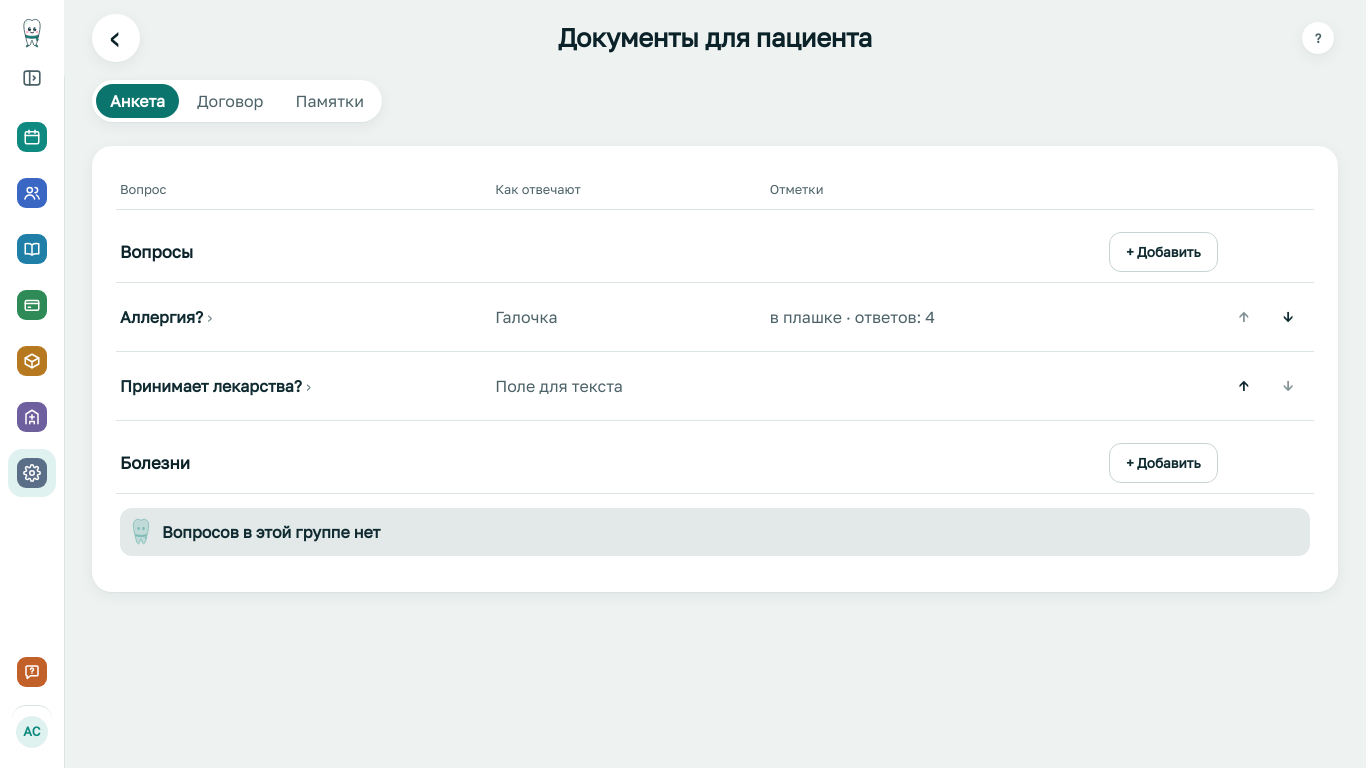
it: анкета: разделы, порядок, новый вопрос с плашкой
Check: the text "в плашке · ответов: 4" is shown, box 754,283 -> 1093,352
Check: the button named "Выше: Аллергия?" is disabled, box 1222,297 -> 1266,337
Step 1. Click the button named "Ниже: Аллергия?" → (1288, 317), box 1266,297 -> 1310,337
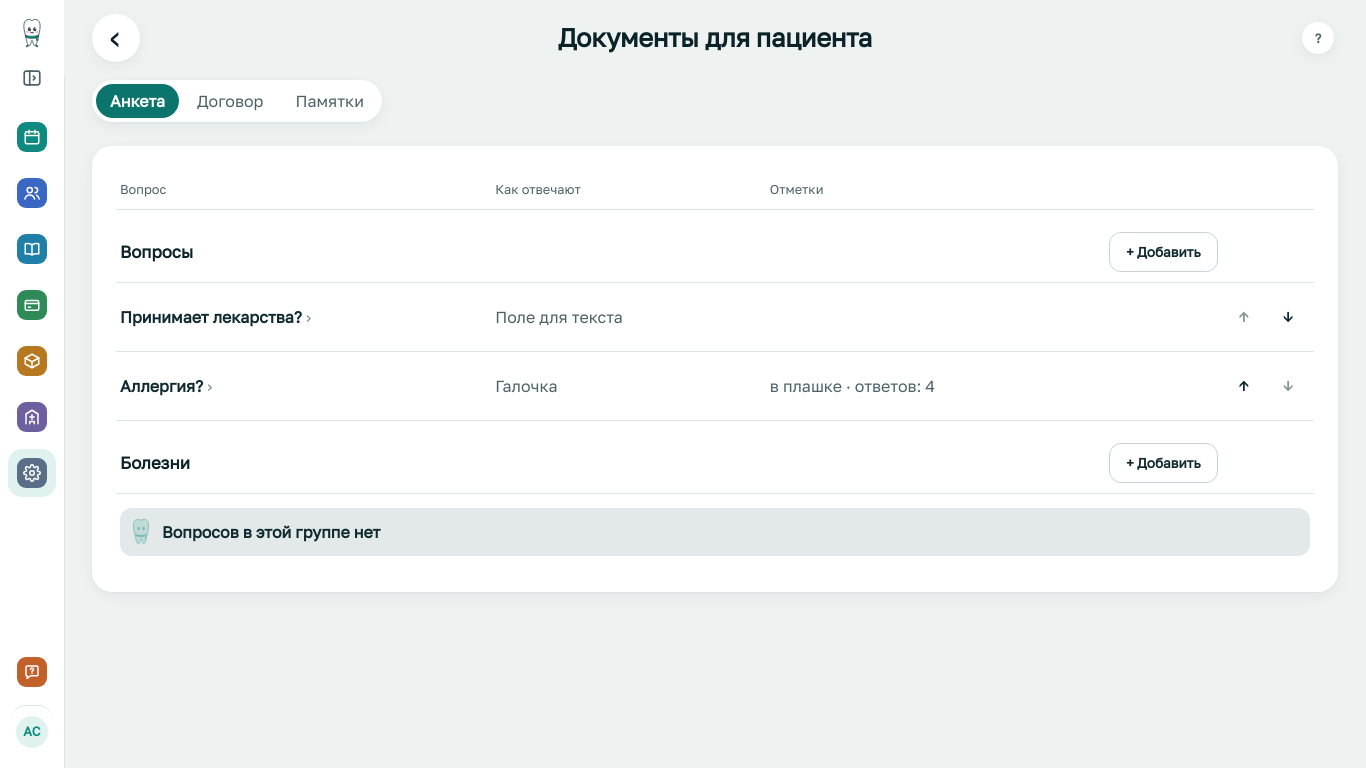
Check: the button named "Выше: Аллергия?" is enabled, box 1222,366 -> 1266,406
Step 2. Click the button "+ Добавить" in the row of "Болезни" → (1163, 463), box 1109,443 -> 1218,483
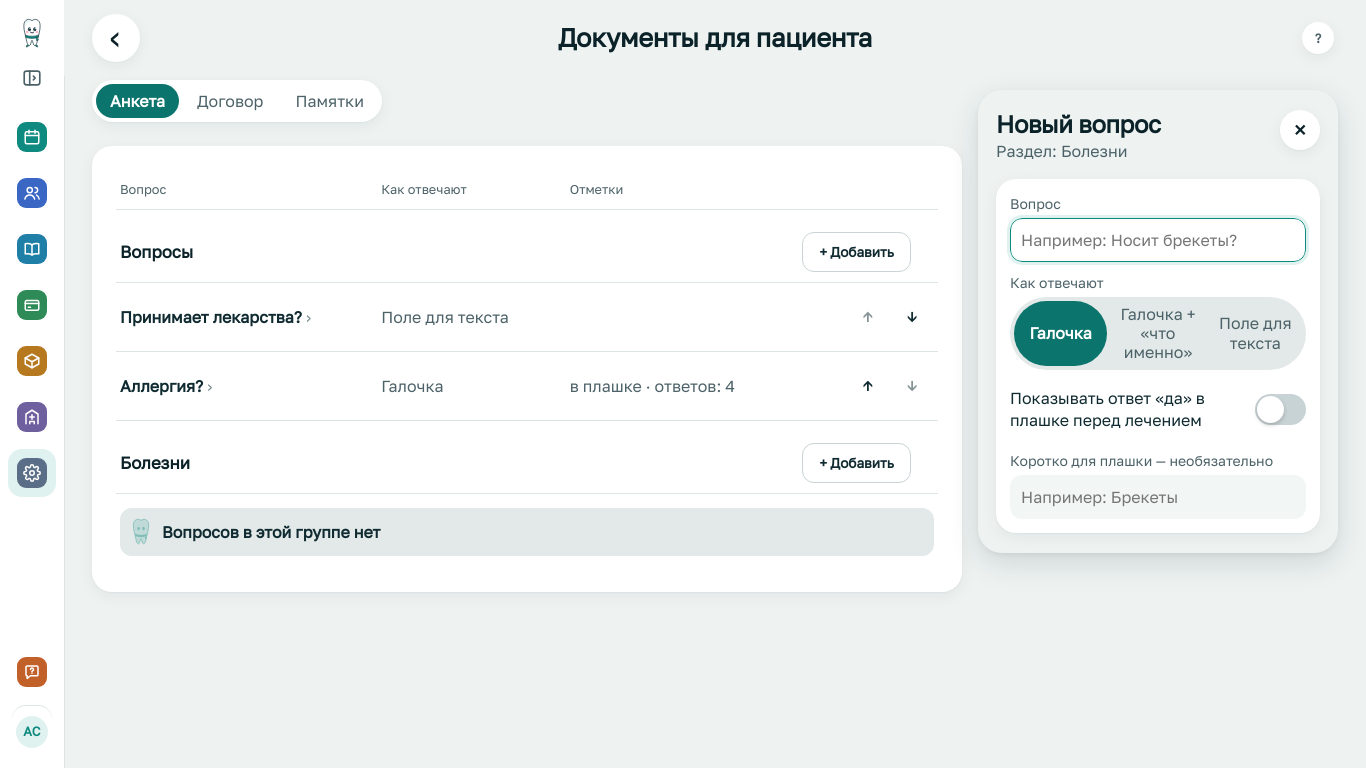
Check: the text "Раздел: Болезни" is shown, box 996,141 -> 1128,161
Step 3. Type "Диабет" into the field labelled "Вопрос" → (1158, 240), box 1010,218 -> 1306,262
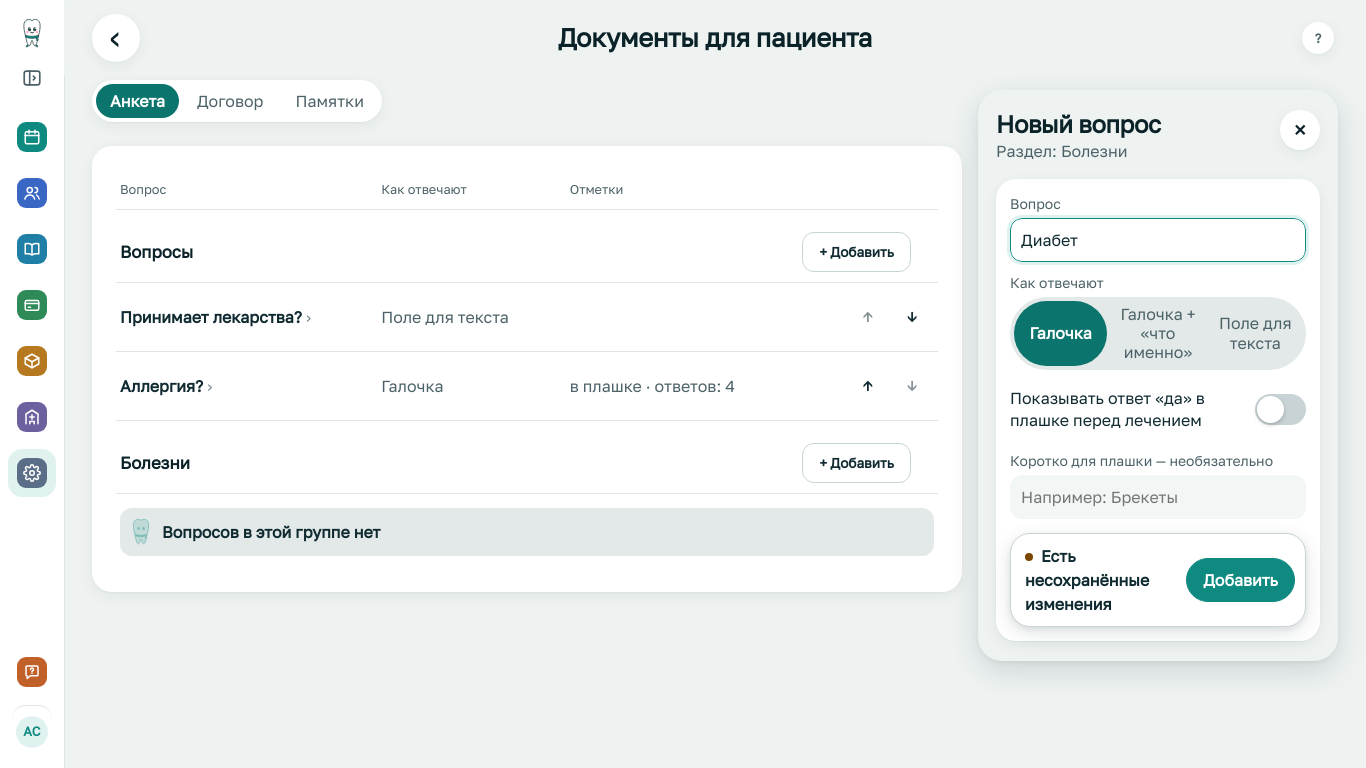
Step 4. Click the checkbox labelled "Показывать ответ «да» в плашке перед лечением" → (1280, 410), box 1255,394 -> 1306,426
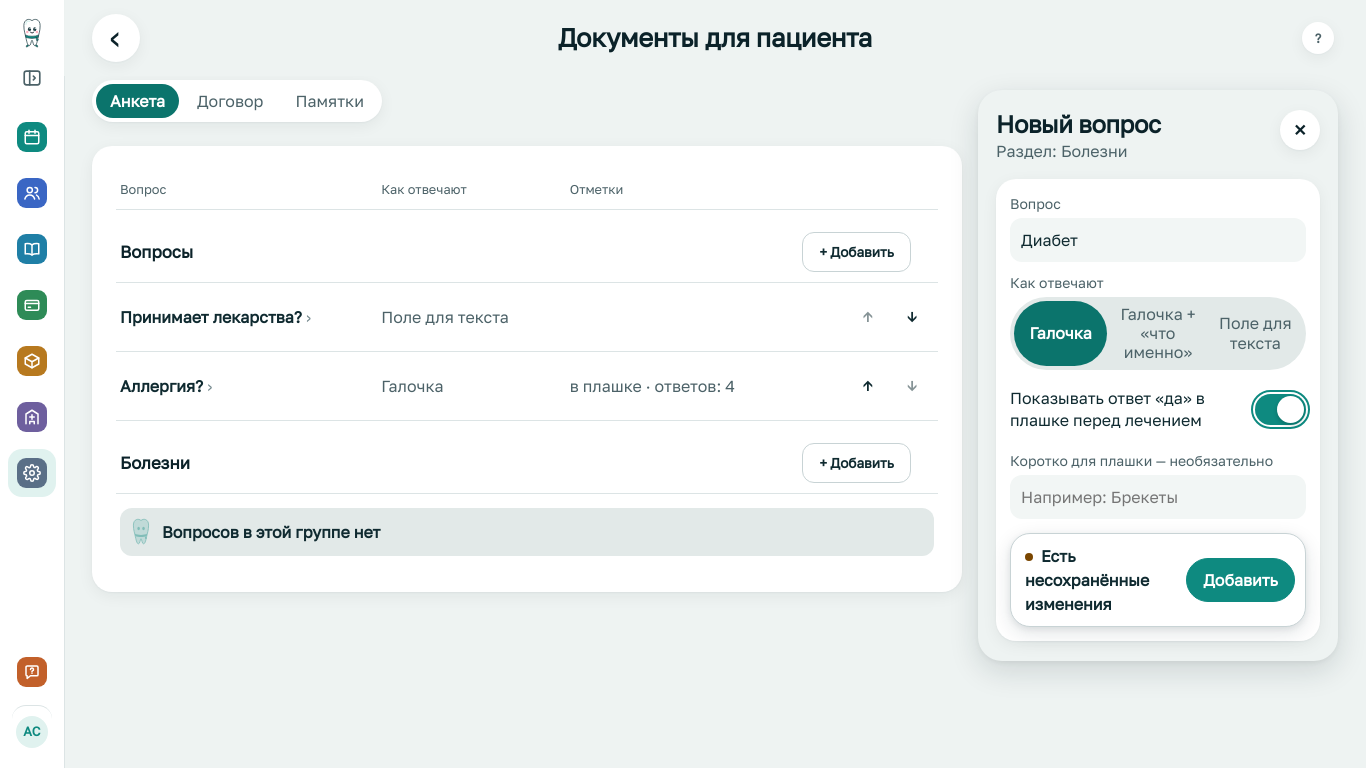
Step 5. Click the button "Добавить" → (1241, 580), box 1186,558 -> 1295,602
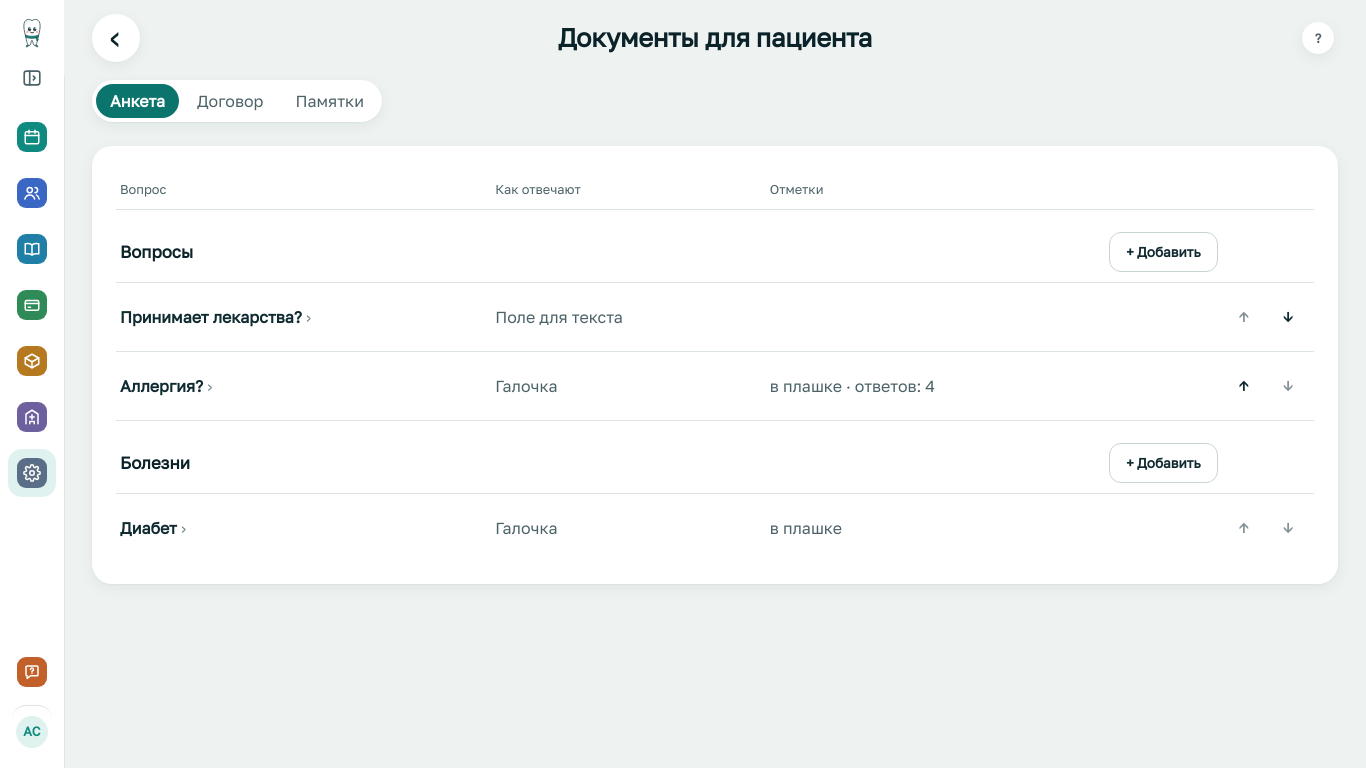
Check: the button "Диабет" is shown, box 120,516 -> 186,540
